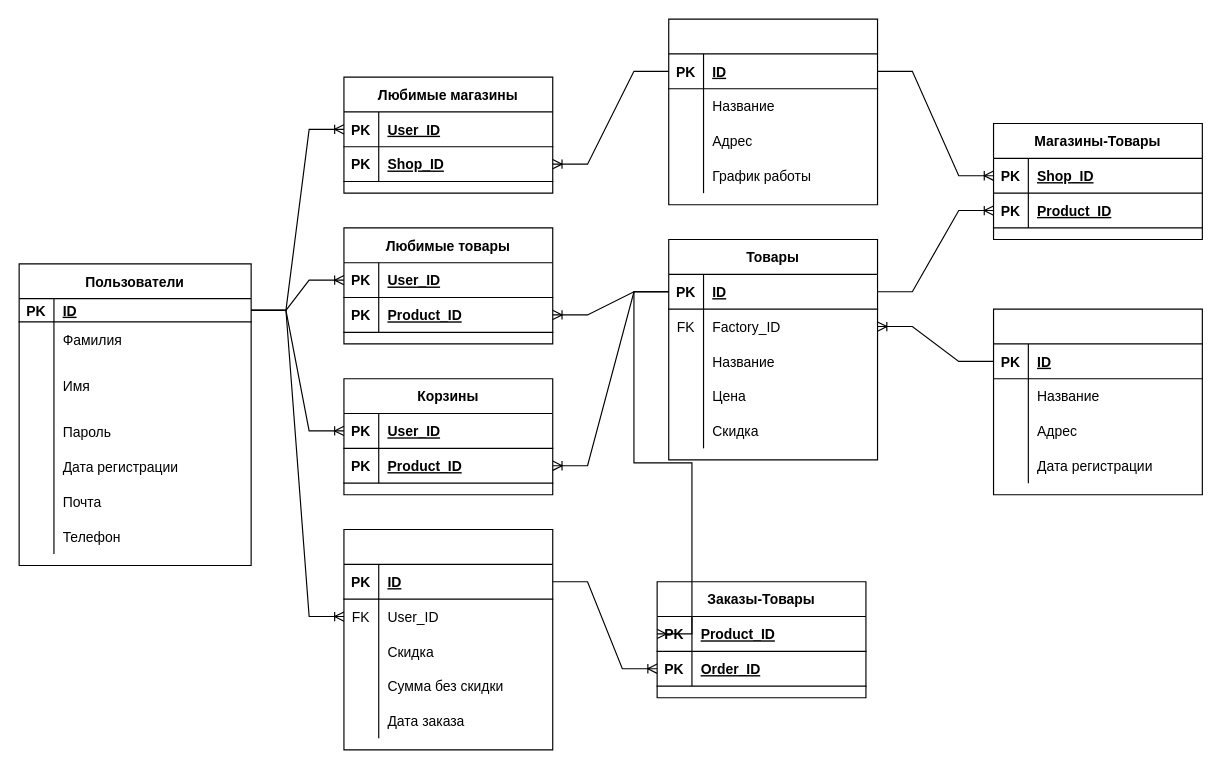
Some shapes in this 1221 by 769 pixel diagram are drawn without their labels. Here are the shapes that lost their labels. From the top down, the box of each, then its label:
(668, 18, 878, 205): Магазины
(992, 308, 1202, 495): Производители
(343, 528, 553, 750): Заказы
